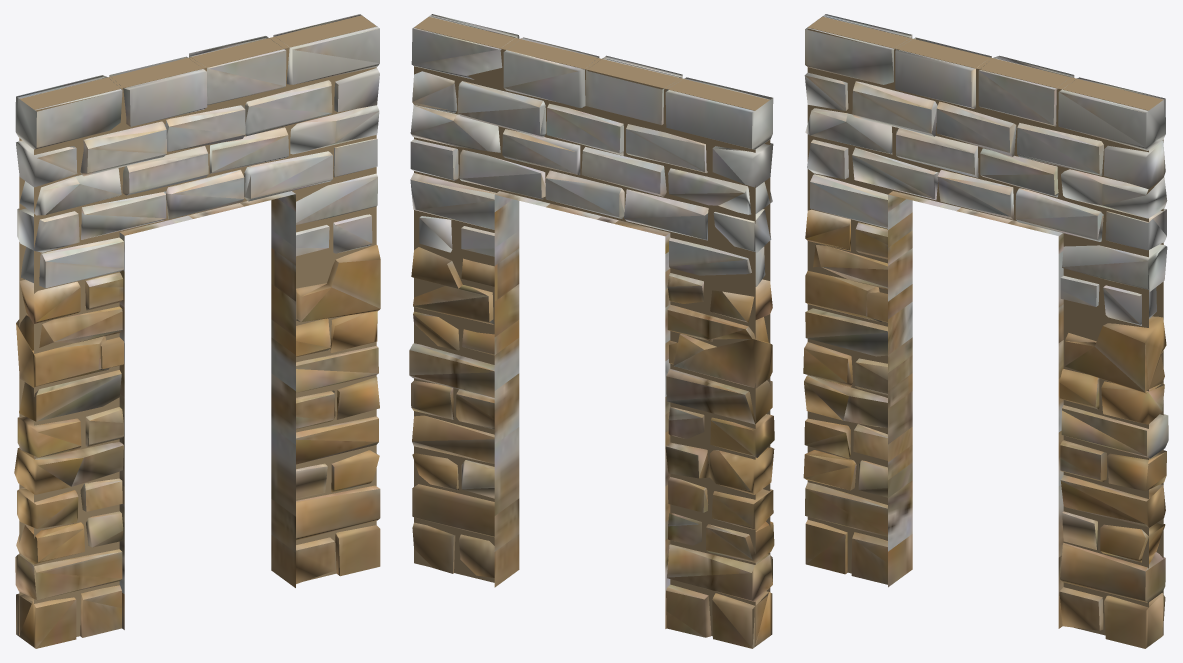
The model's file is wall-plaster-door.lod1.glb.
3 renders of one model, left to right at view 1: azimuth 30°, elevation 25°; view 2: azimuth 150°, elevation 25°; view 3: azimuth 330°, elevation 25°, orthographic.
Size of the model in its own units: 2 by 3 by 0.25.
1 material, 1 textured.
